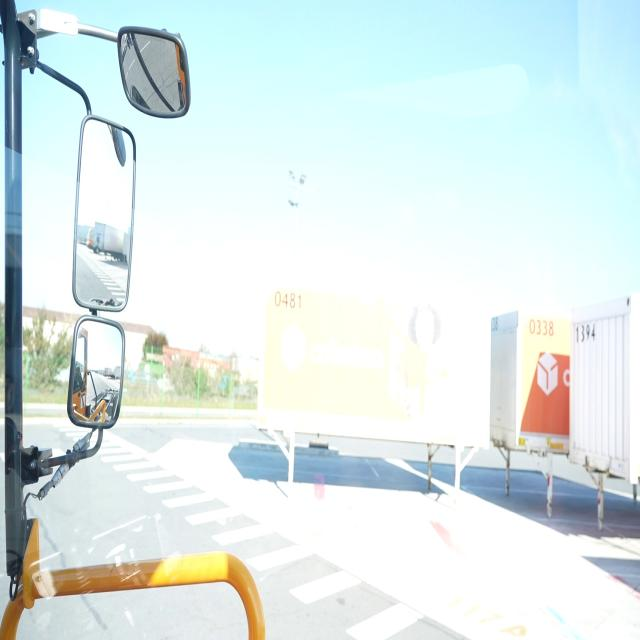Code: (572, 316, 600, 350), (273, 287, 306, 315), (527, 314, 555, 343)
